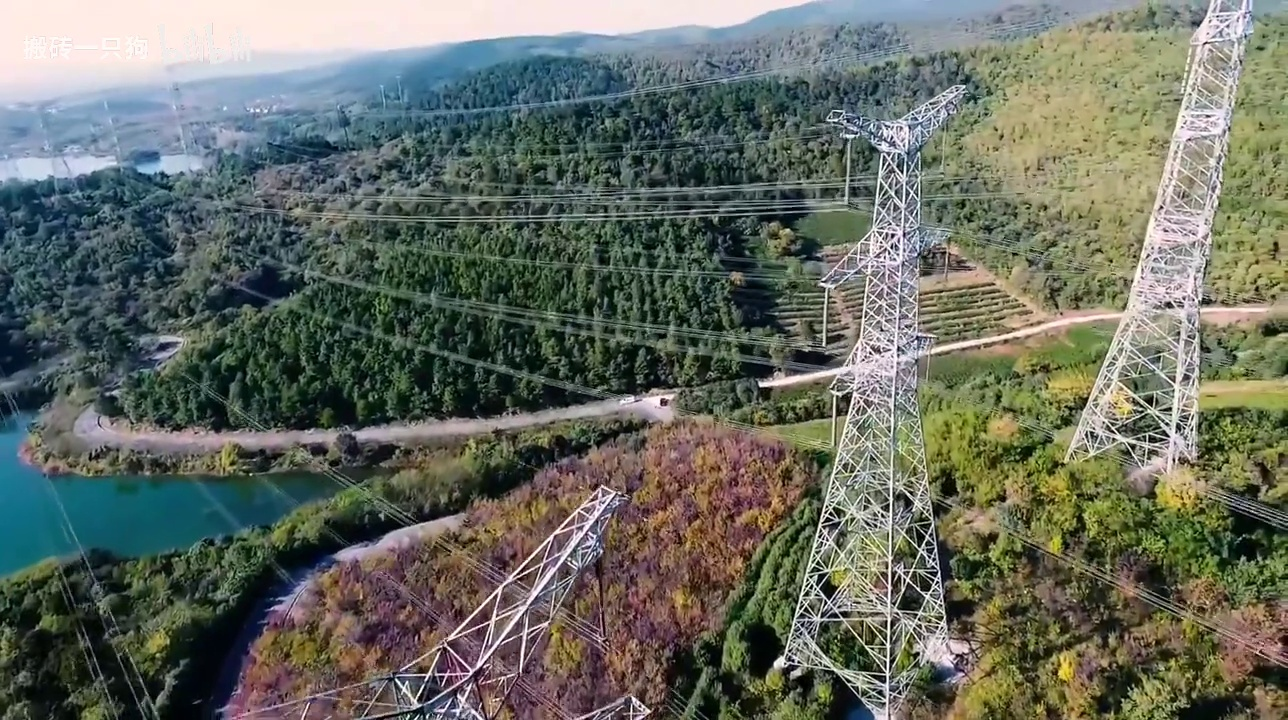tower_body: (764, 76, 1007, 718)
tower_foot: (773, 553, 985, 712)
tower_head: (811, 83, 989, 159)
